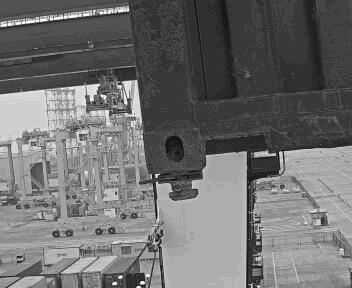twist_lock_1: (112, 163, 174, 208)
